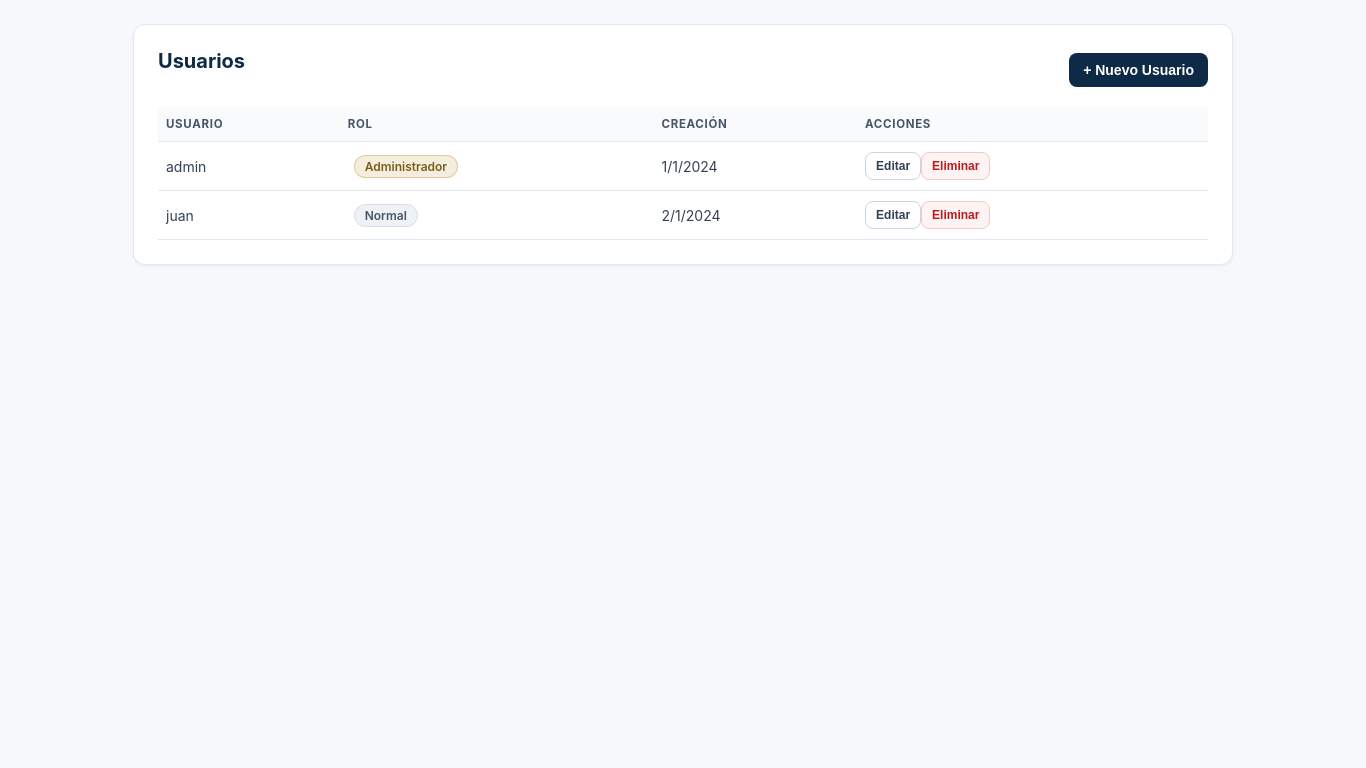
Test: UsersManager › crea un usuario (POST /api/users) con usuario, contraseña y rol
Expected: the text "admin" is shown, [158, 142, 340, 190]
Click the button "+ Nuevo Usuario".
click(1139, 70)  # box [1069, 53, 1208, 87]
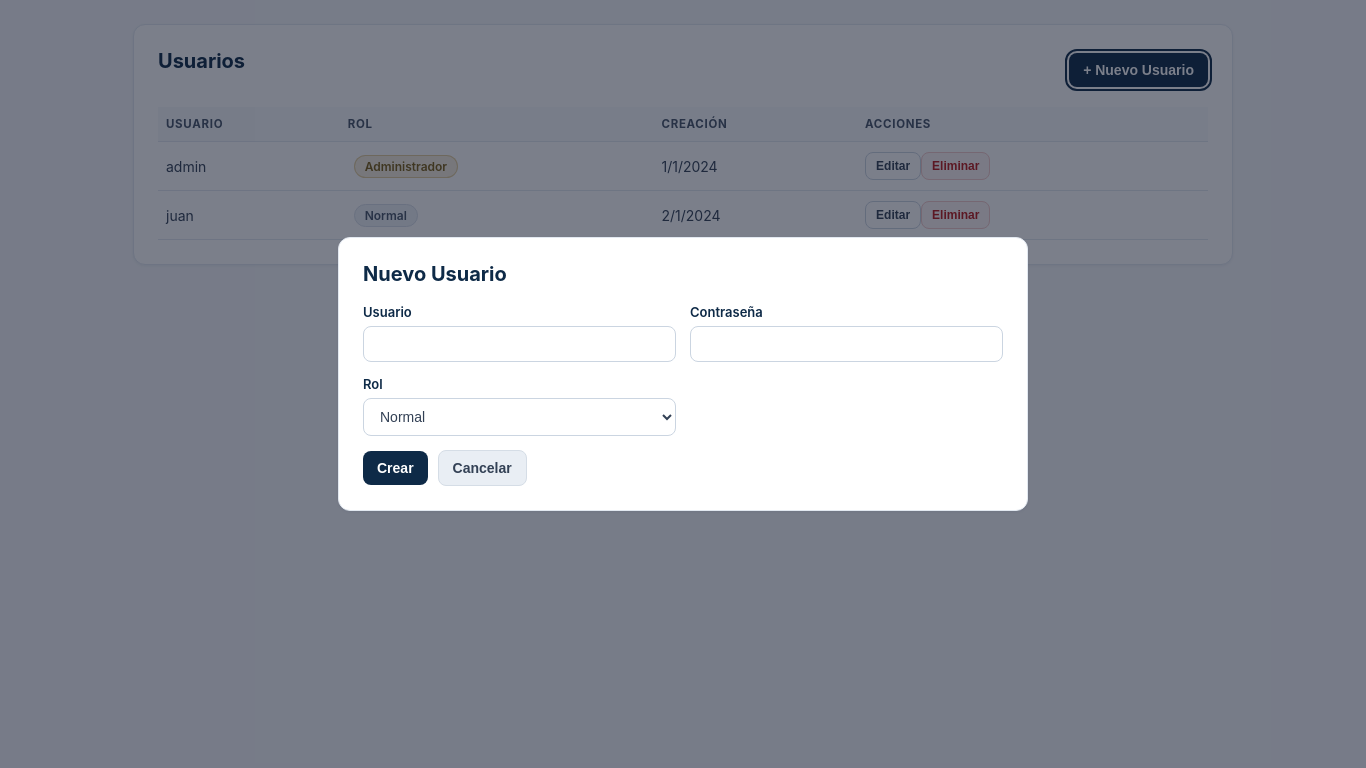
Expected: the heading "Nuevo Usuario" is shown, [363, 262, 507, 286]
Type "nuevo" into the field labelled "Usuario".
click(520, 344); type("nuevo")  # box [363, 326, 676, 362]
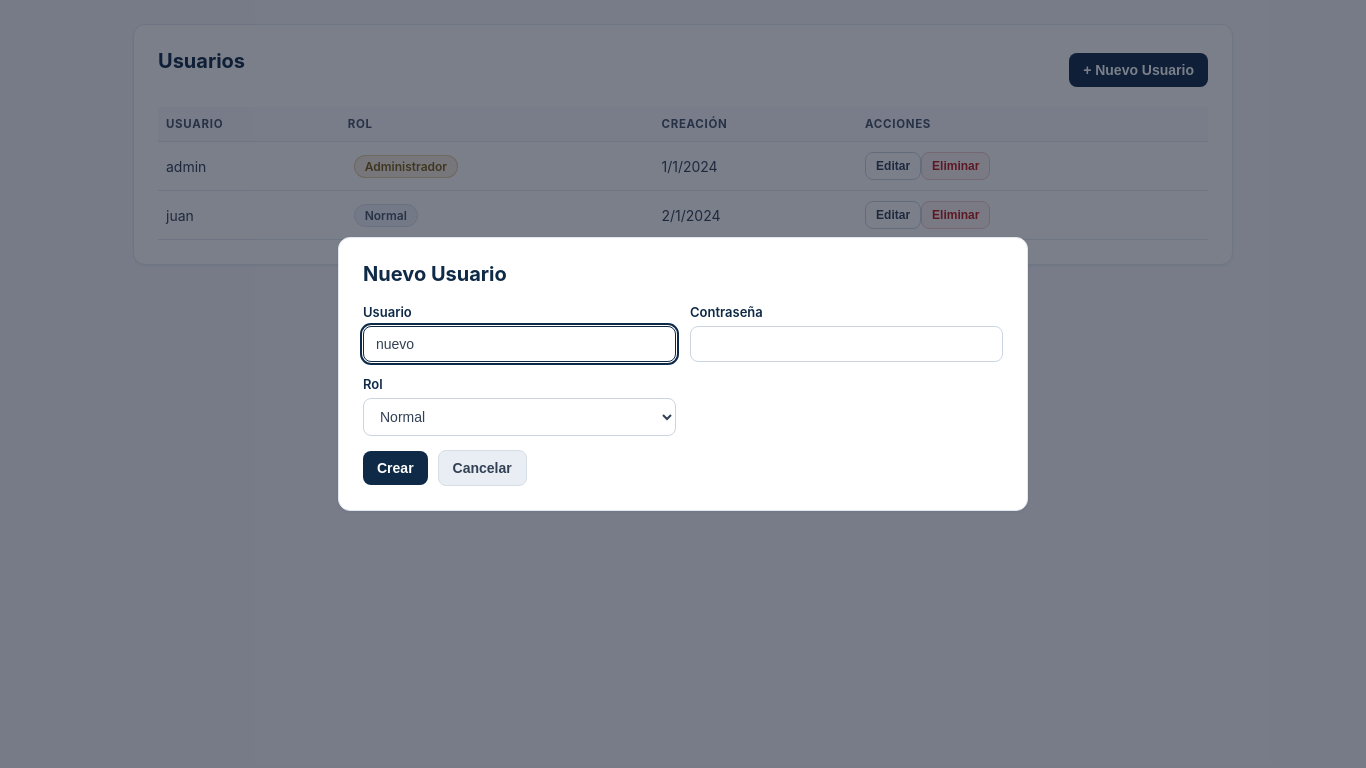
Type "pass1234" into the password field labelled "Contraseña".
click(846, 344); type("pass1234")  # box [690, 326, 1003, 362]
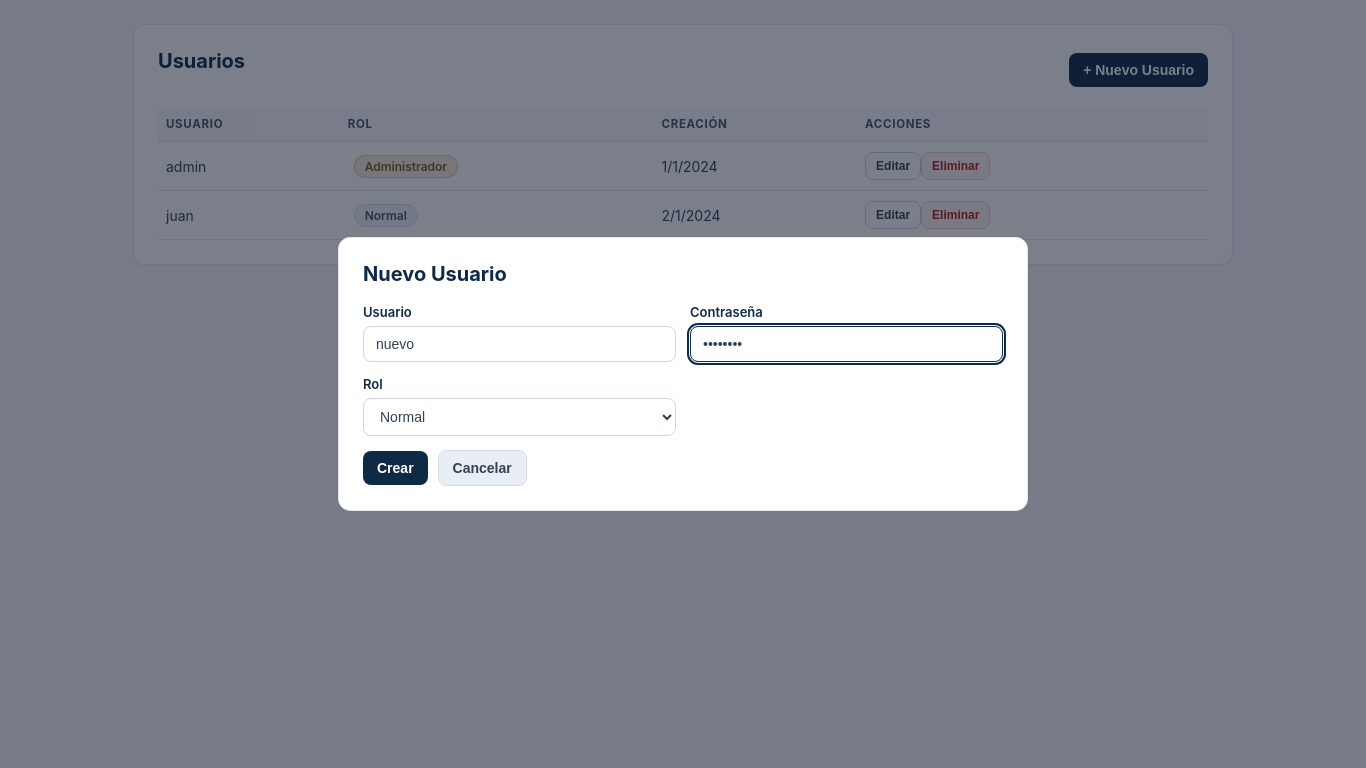
Select "Administrador" in the dropdown labelled "Rol" at (520,417), box [363, 398, 676, 436]
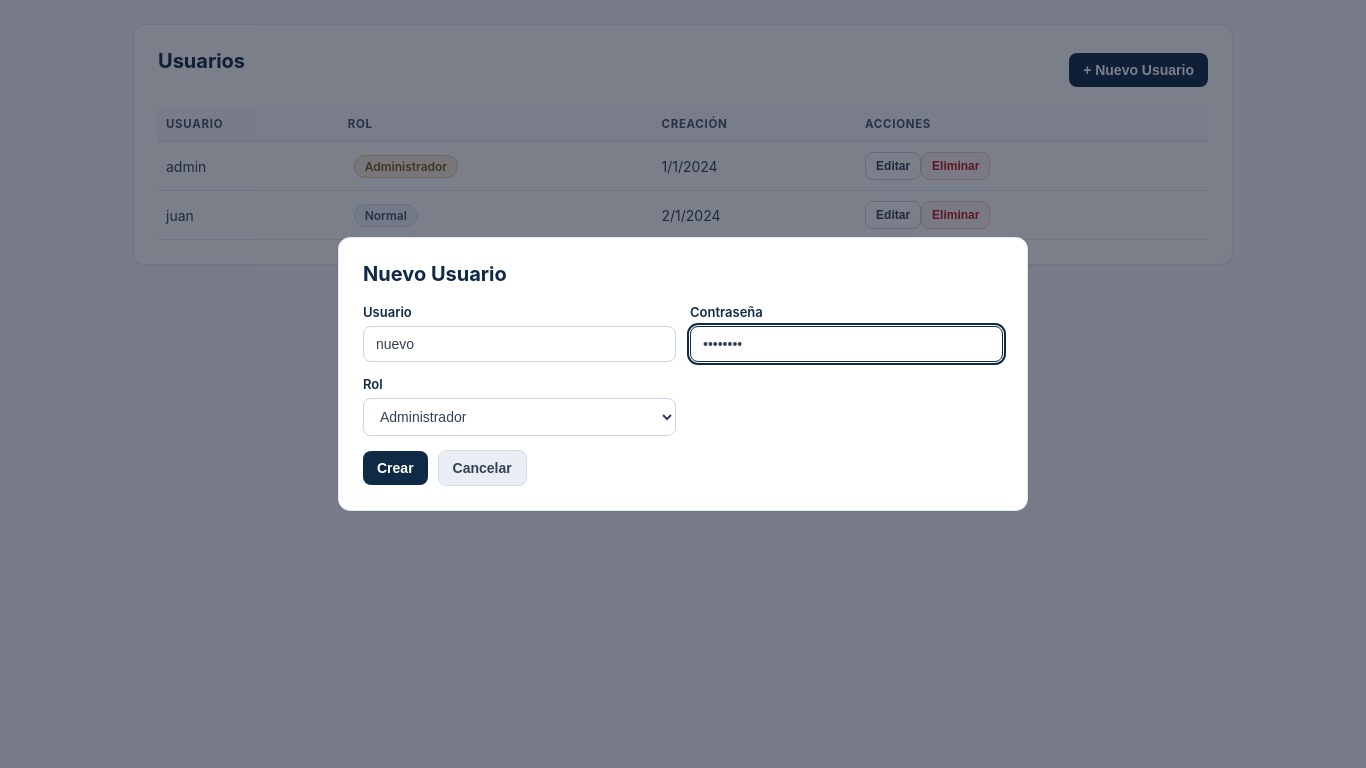
Click the button "Crear".
click(395, 468)  # box [363, 451, 428, 485]
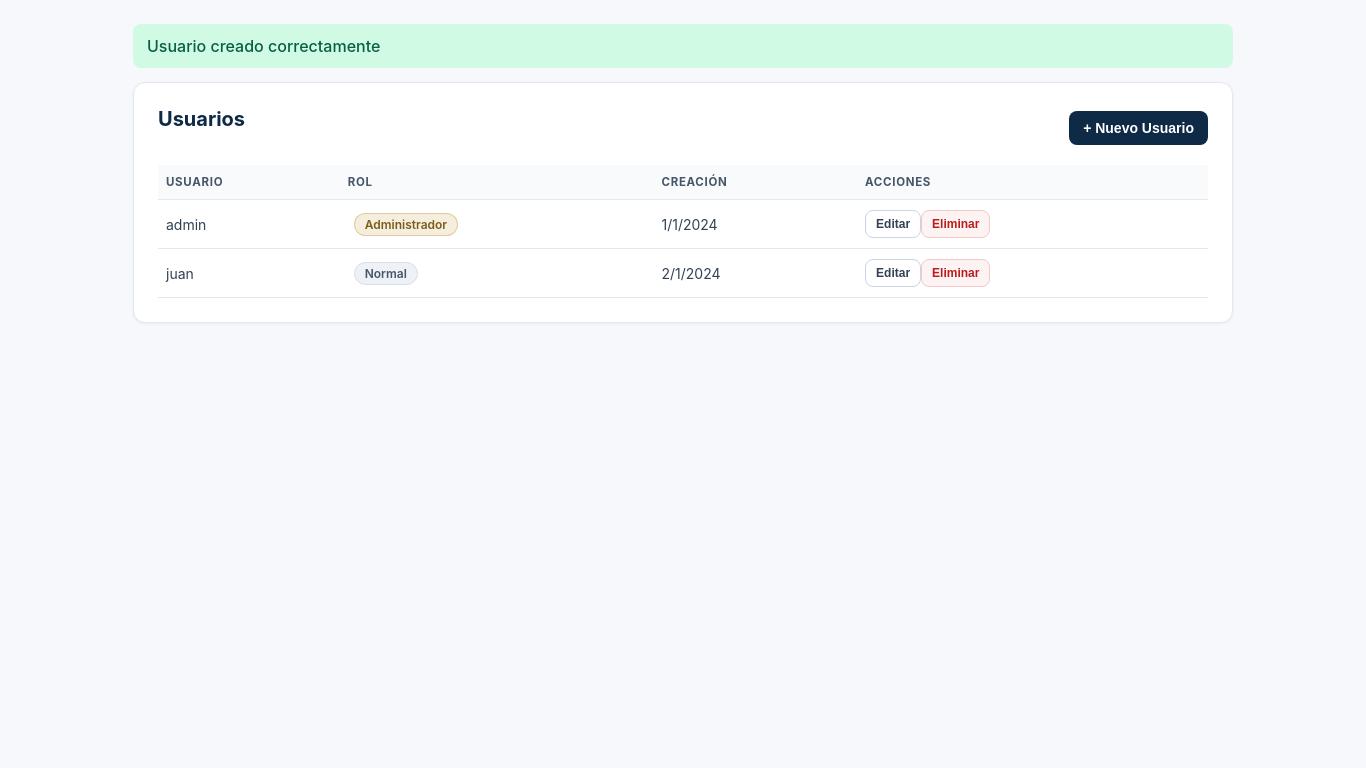
Expected: the text "Usuario creado correctamente" is shown, [133, 24, 1233, 68]
